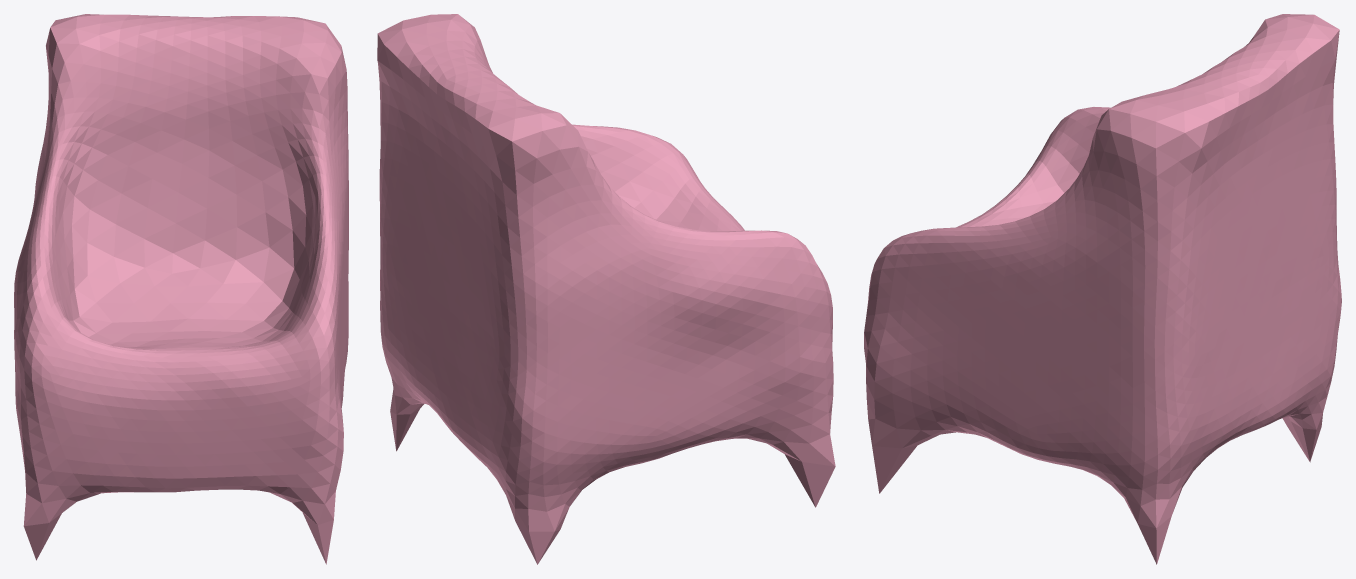
The model's file is Chair.glb.
3 renders of one model, left to right at view 1: azimuth 30°, elevation 25°; view 2: azimuth 150°, elevation 25°; view 3: azimuth 270°, elevation 25°, orthographic. The views are drawn at different scales.
Visible parts, largest first — view 1: final_model (3); view 2: final_model (3); view 3: final_model (3).
Boxes of the visible parts, box(x1,y1,x2,y2) form: final_model (3): box(14, 14, 348, 564); final_model (3): box(377, 14, 835, 564); final_model (3): box(864, 14, 1341, 564).
Bounding box in the file's own units: 9.5 × 10.14 × 9.78.
